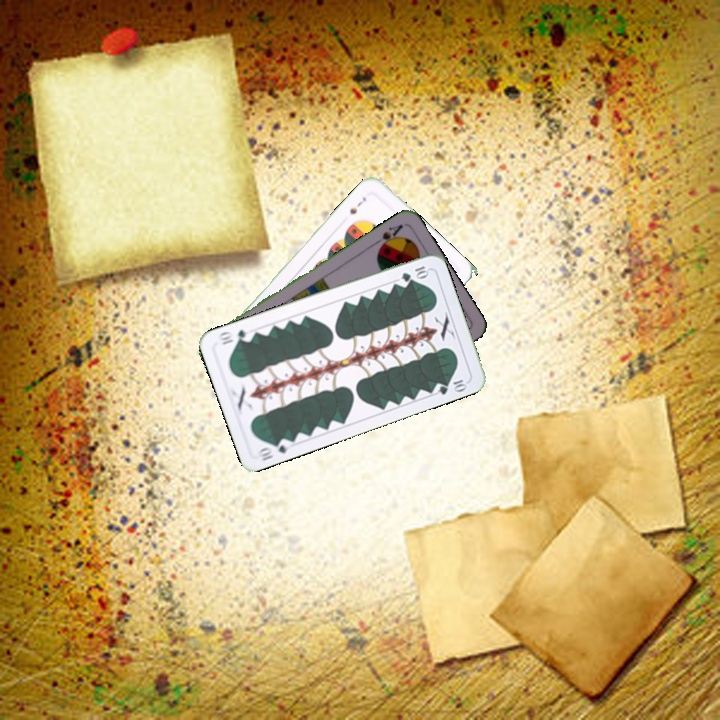G10: (253, 434, 294, 463), (397, 262, 431, 284)
S7: (345, 192, 369, 217)
SA: (370, 220, 406, 252)
